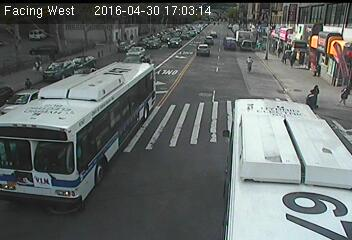neg: (241, 52, 258, 76), (94, 49, 102, 60), (99, 47, 106, 56)
pos: (340, 83, 351, 105), (29, 56, 42, 74), (286, 51, 299, 68), (310, 60, 323, 77), (311, 81, 323, 98), (22, 74, 32, 87), (276, 44, 284, 56)
